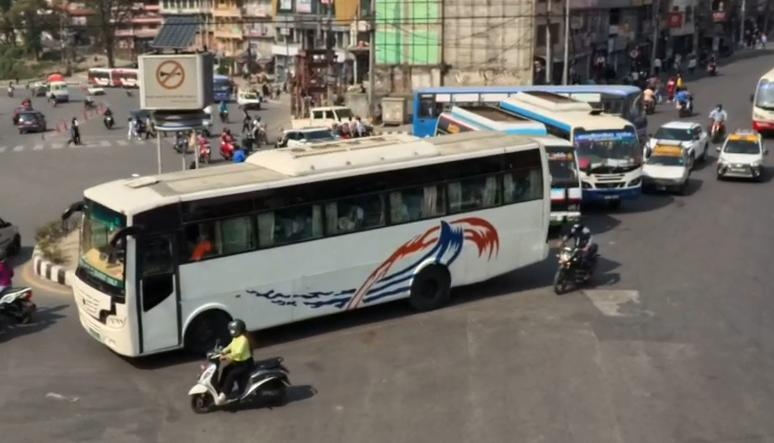bus: (53, 123, 558, 362)
taxi: (714, 129, 769, 185), (640, 144, 691, 192)
